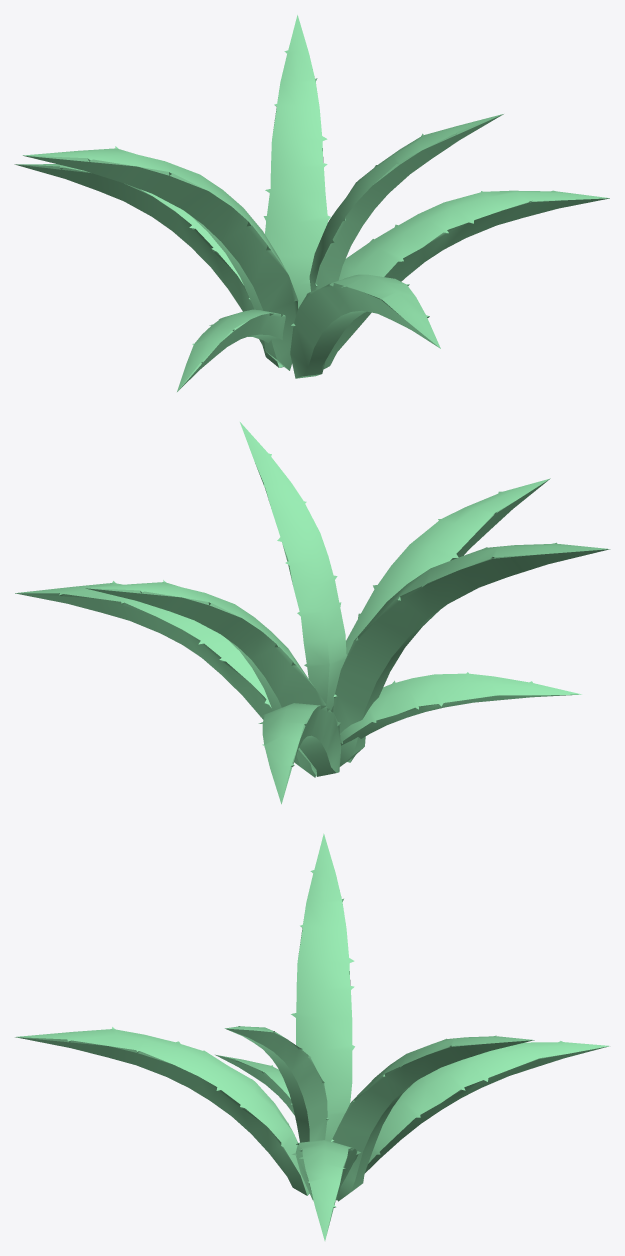
The model's file is aloe.fbx.
3 views of the same model, one above another, from view 1: azimuth 30°, elevation 25°; view 2: azimuth 150°, elevation 25°; view 3: azimuth 270°, elevation 25° (orthographic). The views are drawn at different scales.
Parts seen in each view (by area): view 1: Aloe._01; view 2: Aloe._01; view 3: Aloe._01.
Part boxes in pixels (x1,y1,x2,y2): Aloe._01: [14, 15, 609, 391]; Aloe._01: [15, 422, 610, 804]; Aloe._01: [15, 833, 609, 1240].
Size of the model in its own units: 1.76 by 0.8149 by 1.8.
1 material, 1 textured.
